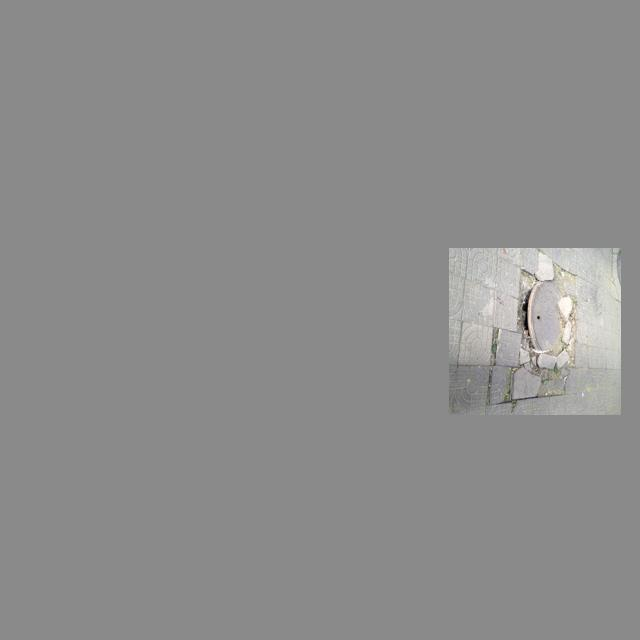circle: (511, 269, 578, 401)
